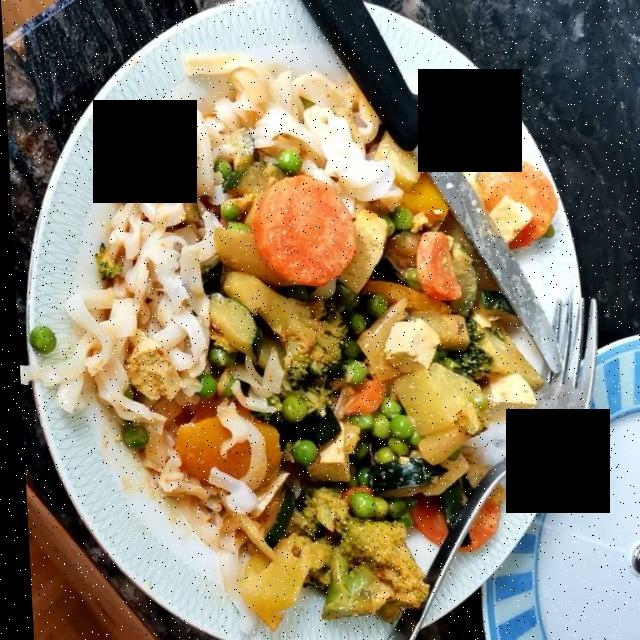rice-noodles-vermicelli: (53, 47, 386, 566)
tofu: (291, 191, 539, 479)
vegetables: (105, 105, 553, 618)
